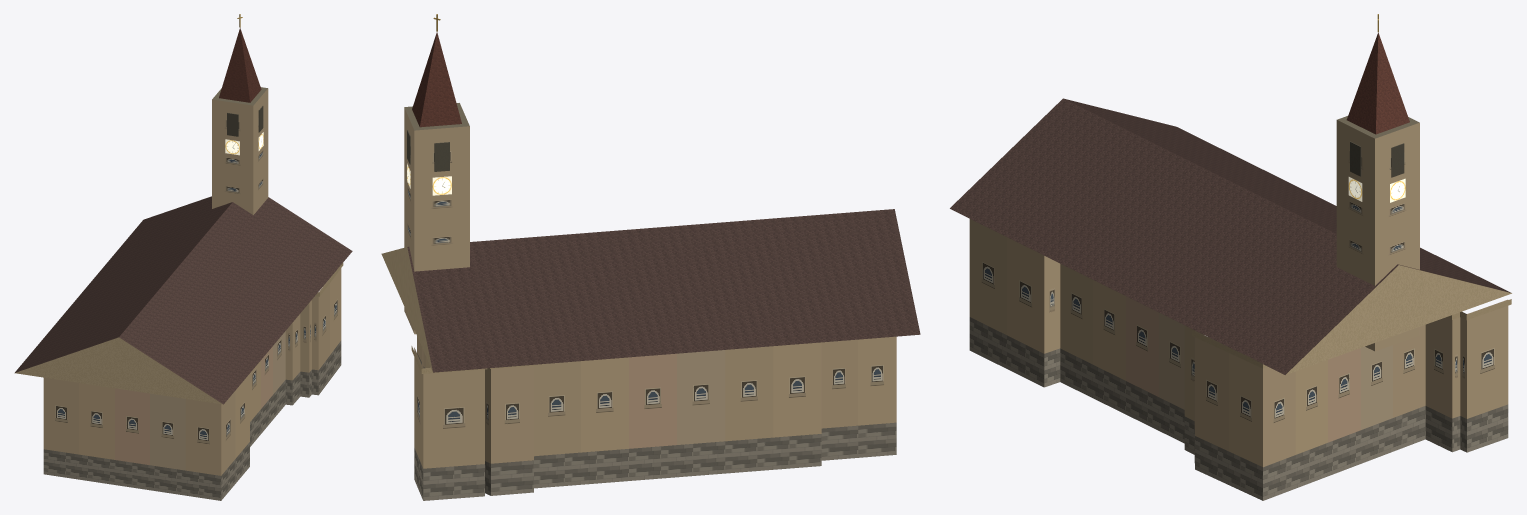
Rendered from ida_herzjesu.glb.
3 views of the same model, side by side, from view 1: azimuth 30°, elevation 25°; view 2: azimuth 150°, elevation 25°; view 3: azimuth 270°, elevation 25° (orthographic). The views are drawn at different scales.
Visible parts, largest first — view 1: roof, wall, plinth, trim, spire; view 2: roof, wall, plinth, trim, spire; view 3: roof, wall, plinth, trim, spire.
Part boxes in pixels (left/top/right/bottom): roof: left=15, top=196, right=352, bottom=404; wall: left=43, top=88, right=341, bottom=475; plinth: left=43, top=340, right=341, bottom=500; trim: left=14, top=14, right=343, bottom=404; spire: left=219, top=28, right=261, bottom=102; roof: left=407, top=209, right=920, bottom=372; wall: left=404, top=108, right=896, bottom=468; plinth: left=414, top=353, right=896, bottom=500; trim: left=381, top=14, right=535, bottom=373; spire: left=412, top=32, right=461, bottom=127; roof: left=950, top=98, right=1510, bottom=374; wall: left=969, top=120, right=1508, bottom=467; plinth: left=969, top=317, right=1508, bottom=500; trim: left=1191, top=14, right=1511, bottom=374; spire: left=1346, top=32, right=1409, bottom=134.
Bounding box in the file's own units: 53.82 × 45.3 × 51.55.
6 materials, 6 textured.
